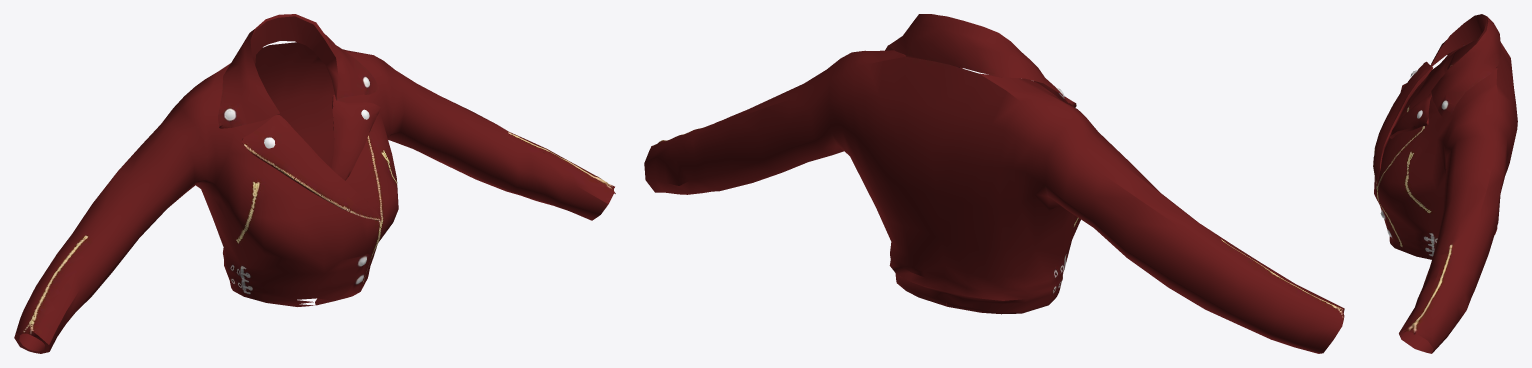
Rendered from scarlet-moto-jacket.glb.
3 views of the same model, side by side, from view 1: azimuth 30°, elevation 25°; view 2: azimuth 150°, elevation 25°; view 3: azimuth 270°, elevation 25° (orthographic). The views are drawn at different scales.
Visible parts, largest first — view 1: Object_2; view 2: Object_2; view 3: Object_2.
Part boxes in pixels (x1=…): Object_2: x1=14, y1=14, x2=615, y2=353; Object_2: x1=644, y1=14, x2=1344, y2=353; Object_2: x1=1373, y1=14, x2=1517, y2=353.
Bounding box in the file's own units: 4.91 × 1.94 × 1.18.
1 material, 1 textured.
